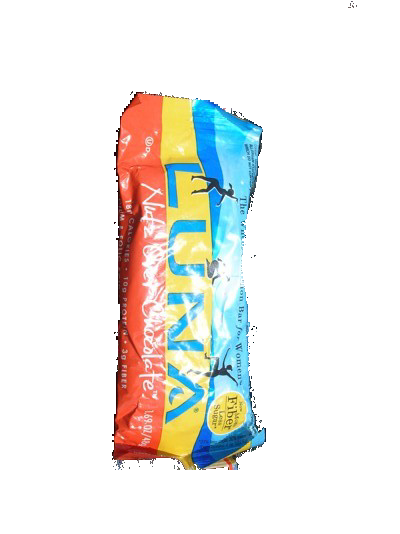grozi_93: (112, 92, 266, 470)
